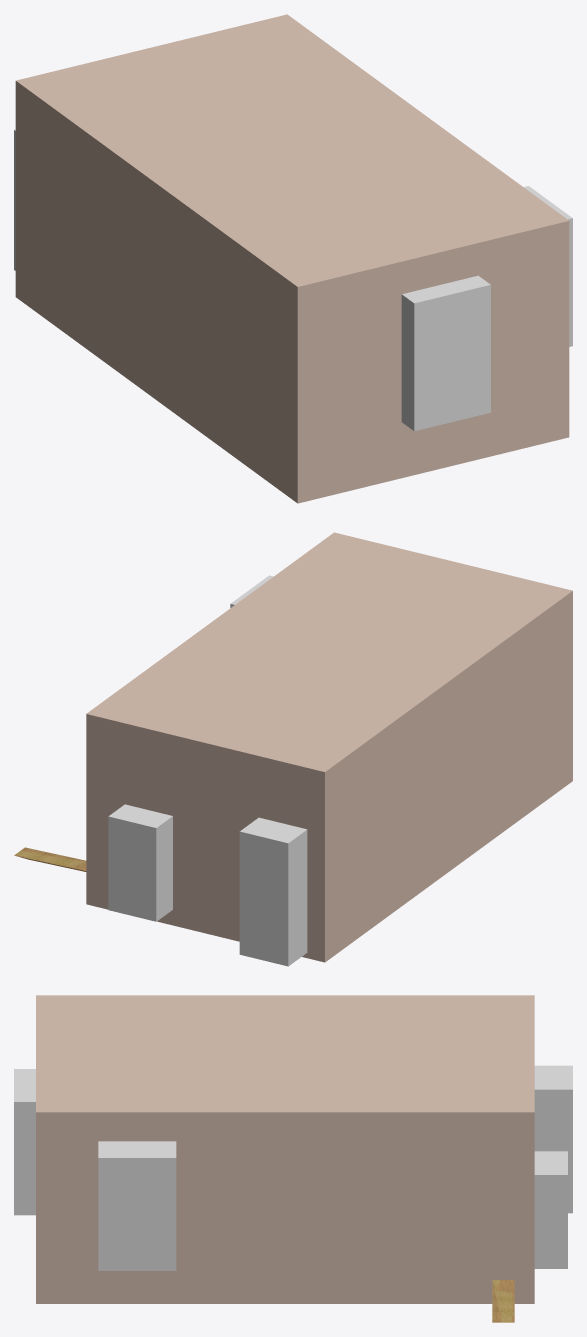
The model's file is MainRoom.fbx.
The picture shows the model from 3 angles, top to bottom: view 1: azimuth 30°, elevation 25°; view 2: azimuth 150°, elevation 25°; view 3: azimuth 270°, elevation 25°; orthographic projection. The views are drawn at different scales.
Parts seen in each view (by area): view 1: RoomShape, WindowEmpty, WindowEmpty.004; view 2: RoomShape, DoorEmpty, SecretDoor, Box dual shoulder.003; view 3: RoomShape, WindowEmpty.004, SecretDoor, DoorEmpty, WindowEmpty, Box dual shoulder.003.
Part boxes in pixels (x1,y1,x2,y2): RoomShape: (15,14,569,503); WindowEmpty: (401,275,490,431); WindowEmpty.004: (524,186,572,346); RoomShape: (86,532,572,962); DoorEmpty: (239,817,307,966); SecretDoor: (108,804,172,921); Box dual shoulder.003: (14,847,86,871); RoomShape: (36,995,534,1303); WindowEmpty.004: (98,1141,176,1270); SecretDoor: (534,1151,567,1268); DoorEmpty: (534,1065,572,1213); WindowEmpty: (14,1069,35,1215); Box dual shoulder.003: (492,1280,514,1322).
Bounding box in the file's own units: 414 × 235 × 621.
